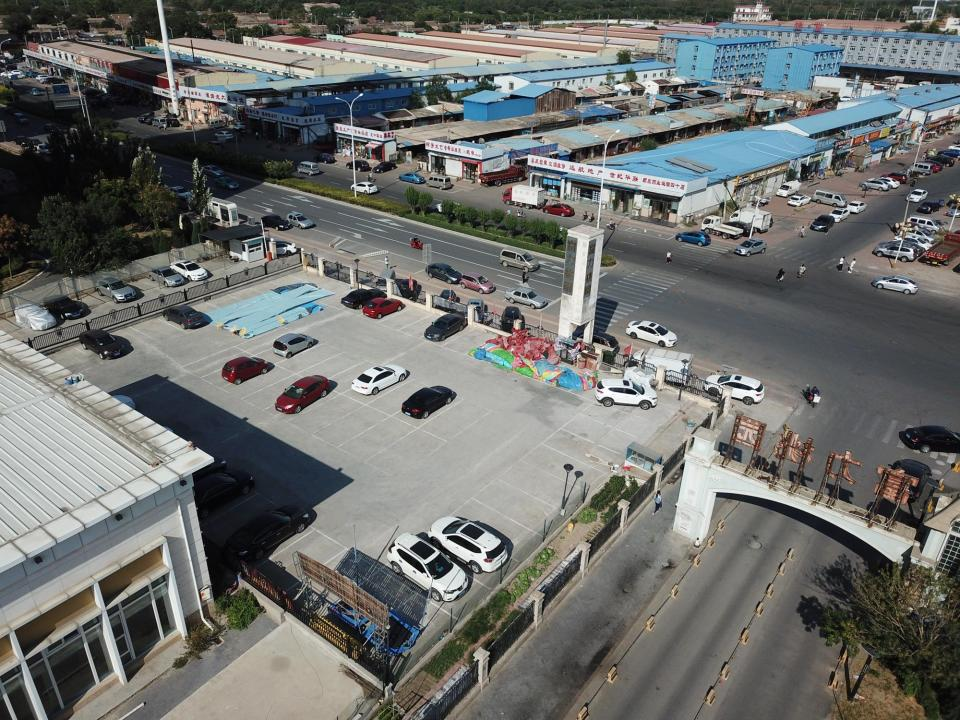car: (386, 530, 470, 600), (221, 502, 311, 558), (428, 514, 510, 575), (192, 461, 255, 516), (594, 376, 658, 410), (274, 374, 330, 412), (705, 371, 766, 404), (889, 458, 933, 503), (350, 363, 407, 396), (401, 386, 455, 420), (901, 424, 960, 454), (220, 355, 274, 384), (626, 317, 678, 346), (77, 329, 125, 360), (422, 312, 468, 342), (272, 330, 317, 359), (160, 302, 204, 331), (43, 296, 88, 320), (14, 304, 56, 329), (94, 278, 136, 303), (341, 286, 387, 308), (502, 286, 548, 308), (360, 296, 404, 318), (878, 239, 924, 260), (170, 258, 209, 282), (458, 271, 496, 294), (871, 276, 919, 294), (874, 243, 917, 263), (147, 266, 184, 286), (425, 262, 460, 283), (892, 234, 932, 252), (810, 188, 847, 207), (260, 238, 298, 256), (895, 226, 937, 242), (675, 230, 712, 248), (734, 238, 768, 256), (721, 220, 755, 237), (501, 307, 526, 329), (262, 213, 292, 231), (288, 210, 316, 229), (541, 203, 575, 218), (810, 214, 835, 231), (465, 298, 485, 319), (868, 176, 899, 189), (777, 180, 799, 198), (860, 180, 891, 192), (350, 181, 378, 194), (880, 171, 908, 184), (905, 188, 929, 203), (828, 207, 850, 223), (398, 172, 425, 185), (167, 186, 193, 199), (214, 176, 238, 190), (346, 158, 369, 172), (787, 194, 811, 207), (914, 162, 940, 174), (918, 200, 940, 214), (373, 162, 398, 174), (201, 164, 224, 177), (313, 152, 336, 165), (927, 157, 955, 167), (846, 201, 868, 213), (920, 159, 944, 170), (440, 289, 454, 307), (44, 122, 62, 136), (937, 148, 960, 158), (13, 135, 30, 147), (214, 130, 234, 140), (946, 203, 960, 217), (27, 137, 41, 150), (12, 113, 28, 124), (37, 144, 54, 154), (84, 89, 104, 96), (165, 118, 180, 127), (28, 71, 46, 78), (71, 84, 88, 91), (947, 143, 960, 152), (138, 114, 152, 122), (96, 93, 112, 100), (40, 76, 54, 84), (46, 77, 64, 83), (110, 96, 123, 104), (145, 115, 156, 124), (102, 96, 116, 103), (234, 122, 246, 130), (81, 88, 97, 94), (9, 74, 25, 80), (9, 70, 24, 76), (120, 98, 132, 105), (36, 74, 50, 80), (0, 71, 14, 77), (30, 88, 40, 95)
truck: (626, 345, 694, 382), (924, 232, 960, 266), (728, 208, 772, 234), (503, 184, 545, 210), (701, 215, 743, 240), (477, 164, 526, 185)
van: (497, 246, 539, 272), (907, 215, 941, 234), (426, 174, 451, 189), (908, 162, 932, 176), (297, 161, 319, 176), (206, 119, 226, 129), (152, 117, 166, 127), (17, 65, 30, 72)
